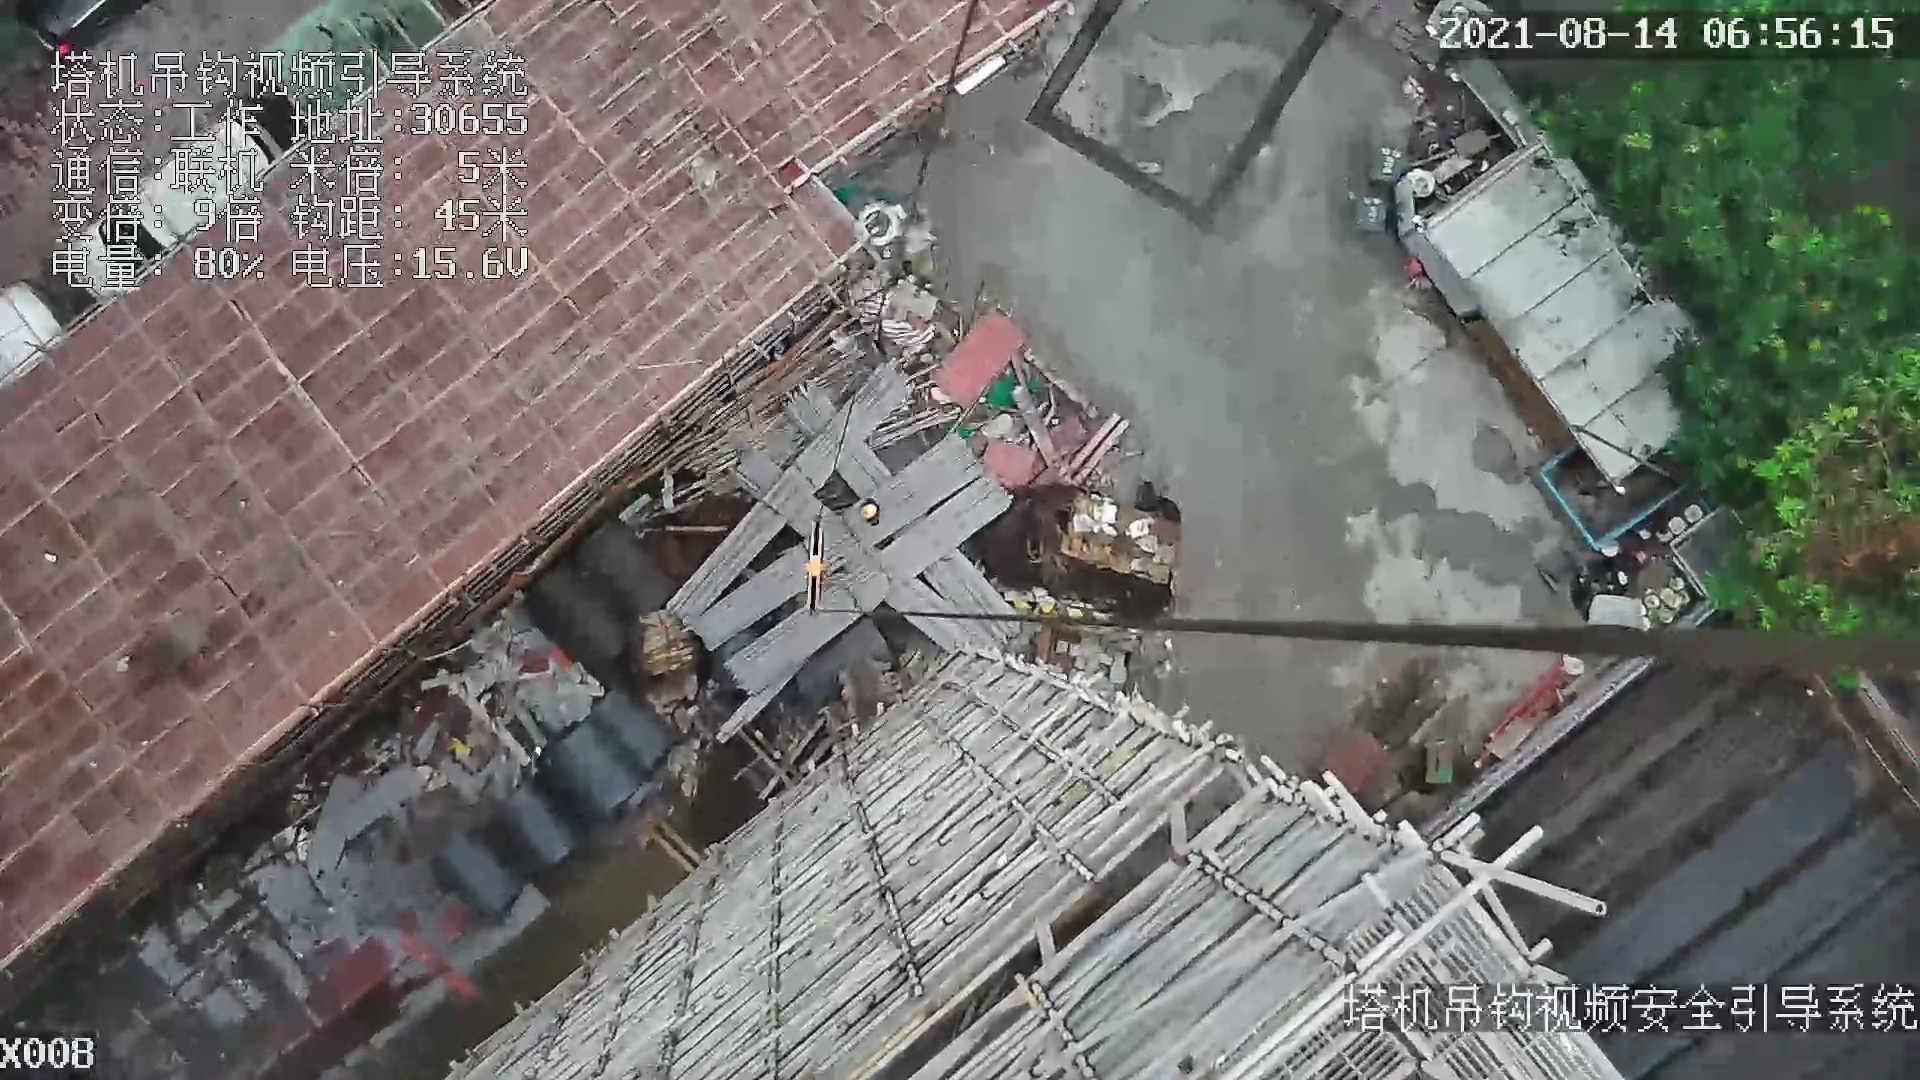helmet: (862, 503, 877, 518)
hook: (794, 510, 831, 612)
person: (858, 498, 881, 527)
rebar: (724, 471, 1012, 698), (691, 430, 985, 651), (665, 360, 913, 621), (925, 551, 1017, 634), (886, 578, 981, 652)
wood: (643, 628, 694, 677)
